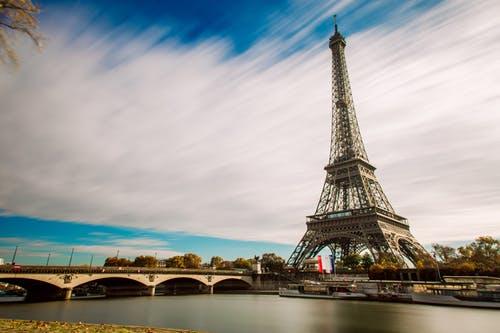eiffel tower: (272, 5, 446, 276)
